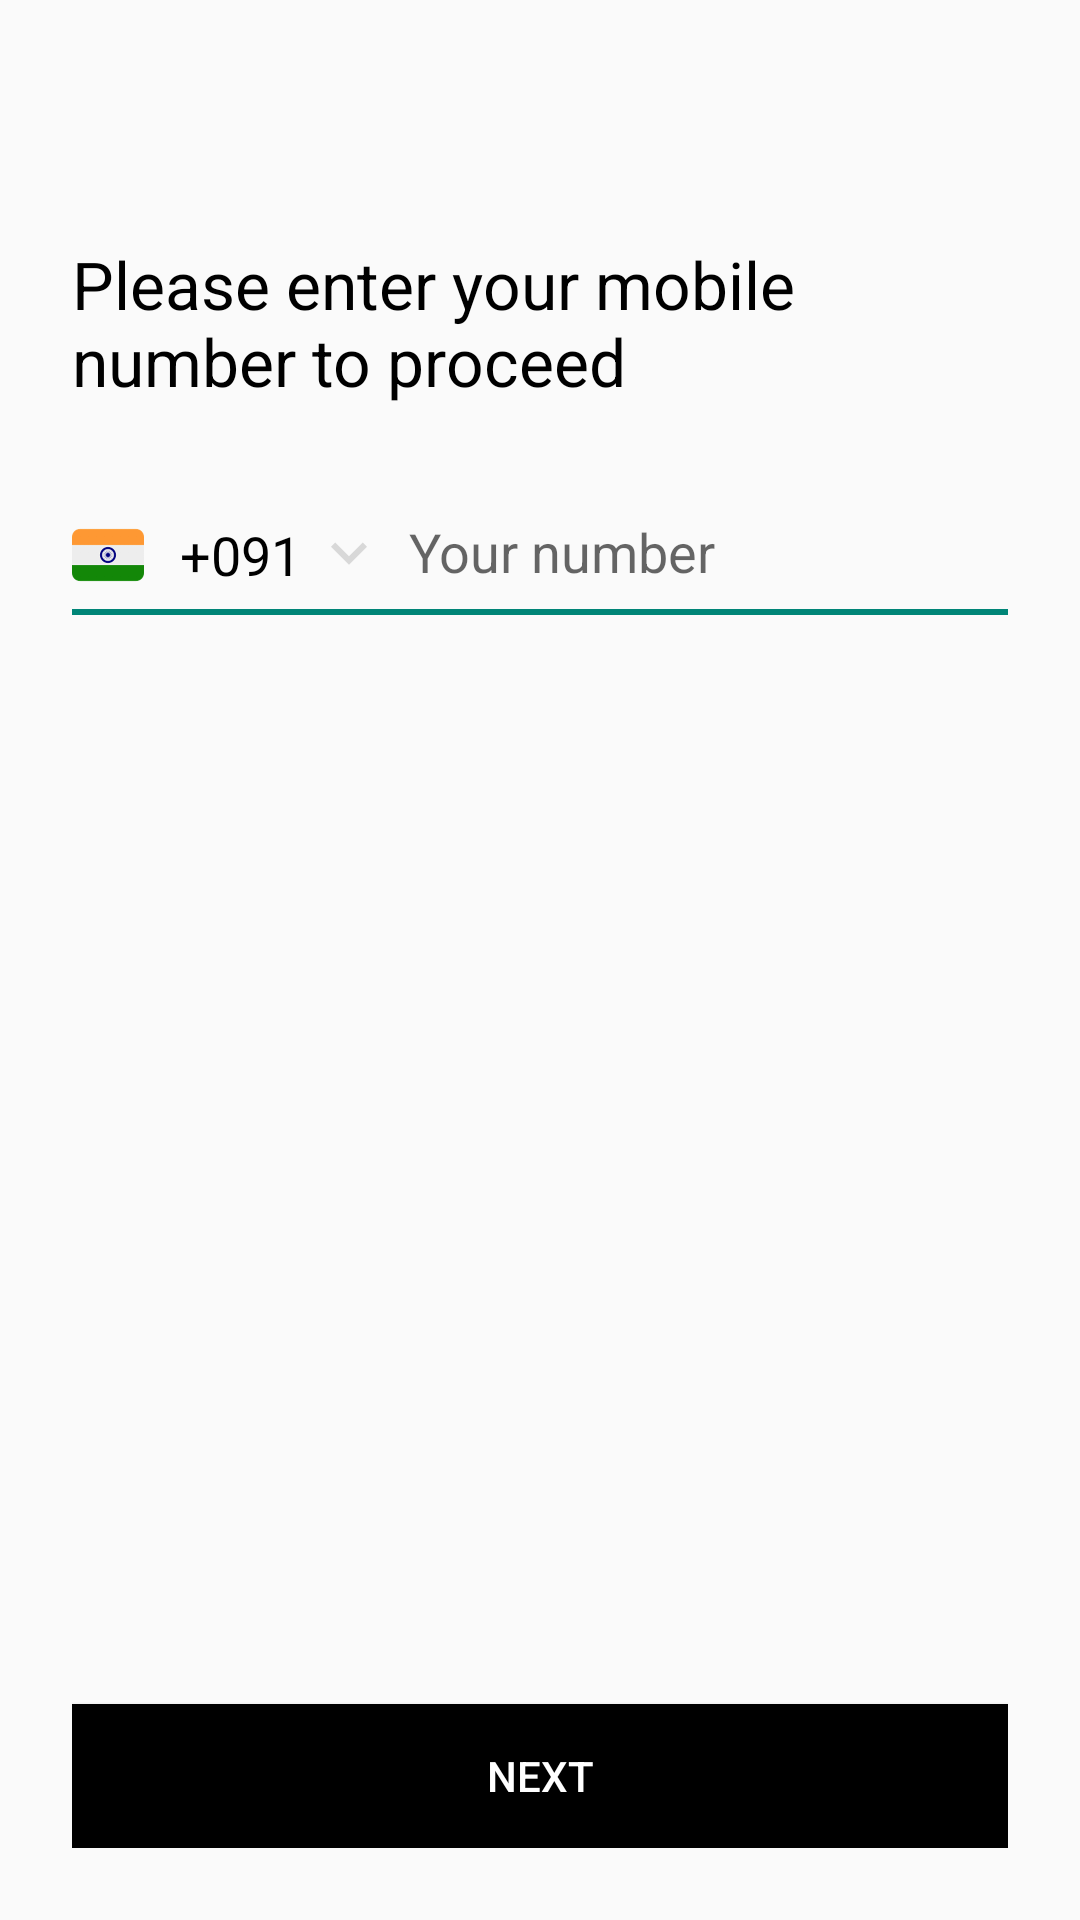

Screen size 1080px x 1920px. Icon name, then its box in pixels as bbox(x1, y1, x2, y2):
india: bbox(72, 529, 144, 581)
keyboard arrow down: bbox(332, 543, 366, 564)
